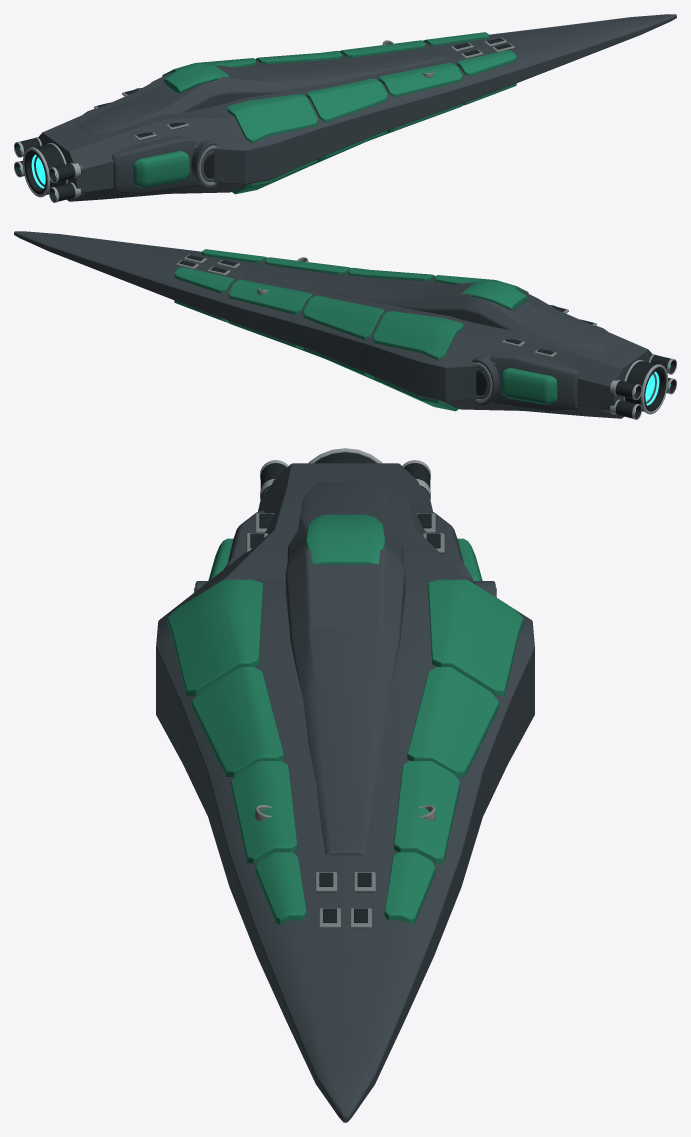
Rendered from shu-fast.glb.
The picture shows the model from 3 angles, top to bottom: view 1: azimuth 30°, elevation 25°; view 2: azimuth 150°, elevation 25°; view 3: azimuth 270°, elevation 25°; orthographic projection. The views are drawn at different scales.
Parts seen in each view (by area): view 1: Arrowhead keel with rear swept shoulder, Raised engine dome and tapered dorsal spine, Flush jade cheek armor.004, Aft side drive cladding, Flush jade cheek armor.005, Flush jade cheek armor.006, Jade aft fairing cover, Jade sensor dome cap, Recessed exhaust nozzle, Flush jade cheek armor.007, Flush jade cheek armor.014, Flush jade cheek armor.013 (+8 smaller); view 2: Arrowhead keel with rear swept shoulder, Raised engine dome and tapered dorsal spine, Flush jade cheek armor.012, Aft side drive cladding.001, Flush jade cheek armor.013, Flush jade cheek armor.014, Jade aft fairing cover.001, Jade sensor dome cap, Recessed exhaust nozzle, Flush jade cheek armor.015, Flush jade cheek armor.006, Flush jade cheek armor.005 (+7 smaller); view 3: Arrowhead keel with rear swept shoulder, Raised engine dome and tapered dorsal spine, Flush jade cheek armor.012, Flush jade cheek armor.004, Flush jade cheek armor.013, Flush jade cheek armor.005, Flush jade cheek armor.014, Flush jade cheek armor.006, Jade sensor dome cap, Flush jade cheek armor.015, Flush jade cheek armor.007.
Part boxes in pixels (bbox=[...]): Arrowhead keel with rear swept shoulder: bbox=[38, 14, 676, 201]; Raised engine dome and tapered dorsal spine: bbox=[78, 51, 445, 135]; Flush jade cheek armor.004: bbox=[227, 94, 317, 143]; Aft side drive cladding: bbox=[112, 136, 199, 194]; Flush jade cheek armor.005: bbox=[306, 78, 387, 122]; Flush jade cheek armor.006: bbox=[379, 63, 462, 97]; Jade aft fairing cover: bbox=[133, 151, 189, 187]; Jade sensor dome cap: bbox=[164, 63, 229, 93]; Recessed exhaust nozzle: bbox=[24, 144, 65, 194]; Flush jade cheek armor.007: bbox=[457, 50, 516, 76]; Flush jade cheek armor.014: bbox=[339, 40, 425, 57]; Flush jade cheek armor.013: bbox=[255, 50, 342, 64]; Arrowhead keel with rear swept shoulder: bbox=[14, 231, 652, 418]; Raised engine dome and tapered dorsal spine: bbox=[245, 268, 612, 352]; Flush jade cheek armor.012: bbox=[373, 311, 463, 360]; Aft side drive cladding.001: bbox=[491, 352, 578, 411]; Flush jade cheek armor.013: bbox=[303, 295, 384, 339]; Flush jade cheek armor.014: bbox=[228, 280, 311, 314]; Jade aft fairing cover.001: bbox=[501, 368, 557, 404]; Jade sensor dome cap: bbox=[461, 280, 526, 310]; Recessed exhaust nozzle: bbox=[625, 361, 666, 411]; Flush jade cheek armor.015: bbox=[174, 267, 233, 293]; Flush jade cheek armor.006: bbox=[265, 257, 351, 274]; Flush jade cheek armor.005: bbox=[348, 267, 435, 281]; Arrowhead keel with rear swept shoulder: bbox=[156, 463, 534, 1122]; Raised engine dome and tapered dorsal spine: bbox=[285, 482, 405, 855]; Flush jade cheek armor.012: bbox=[427, 579, 523, 696]; Flush jade cheek armor.004: bbox=[167, 579, 263, 696]; Flush jade cheek armor.013: bbox=[407, 667, 499, 777]; Flush jade cheek armor.005: bbox=[191, 667, 283, 776]; Flush jade cheek armor.014: bbox=[393, 761, 459, 863]; Flush jade cheek armor.006: bbox=[231, 761, 297, 863]; Jade sensor dome cap: bbox=[305, 514, 385, 564]; Flush jade cheek armor.015: bbox=[384, 852, 435, 924]; Flush jade cheek armor.007: bbox=[255, 852, 306, 924].
Size of the model in its own units: 180 by 29.79 by 46.08.
